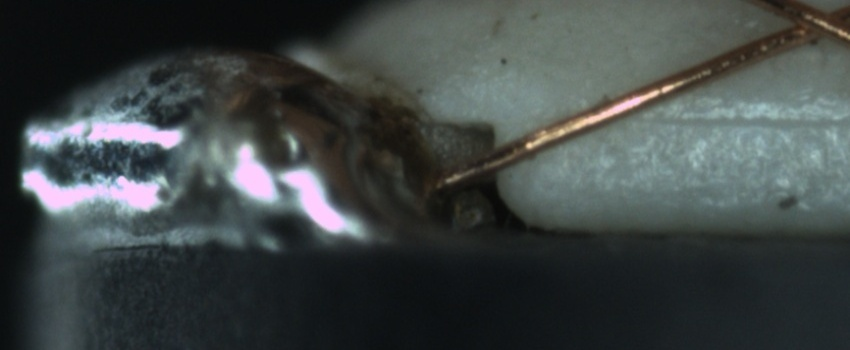CL: (761, 2, 847, 53)
DL: (611, 85, 848, 151)
